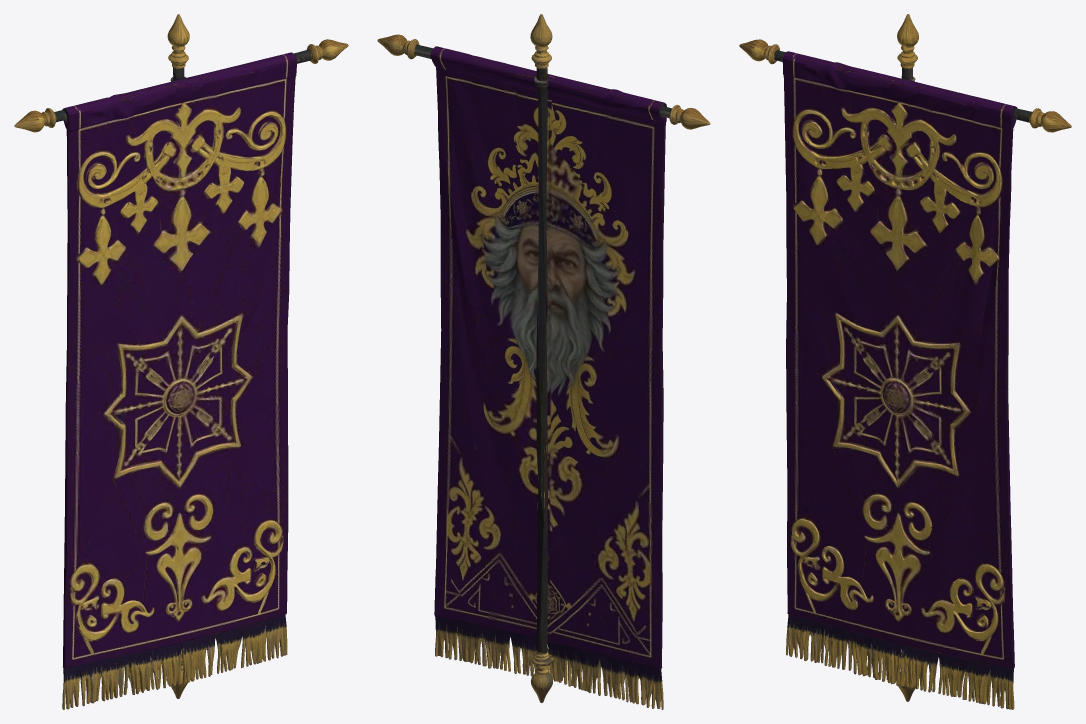
File: mx_ct_banner.glb
The picture shows the model from 3 angles, left to right: view 1: azimuth 30°, elevation 25°; view 2: azimuth 150°, elevation 25°; view 3: azimuth 330°, elevation 25°; orthographic projection.
Size of the model in its own units: 0.9665 by 1.9 by 0.0721.
Materials: 1 (1 with a texture image).
